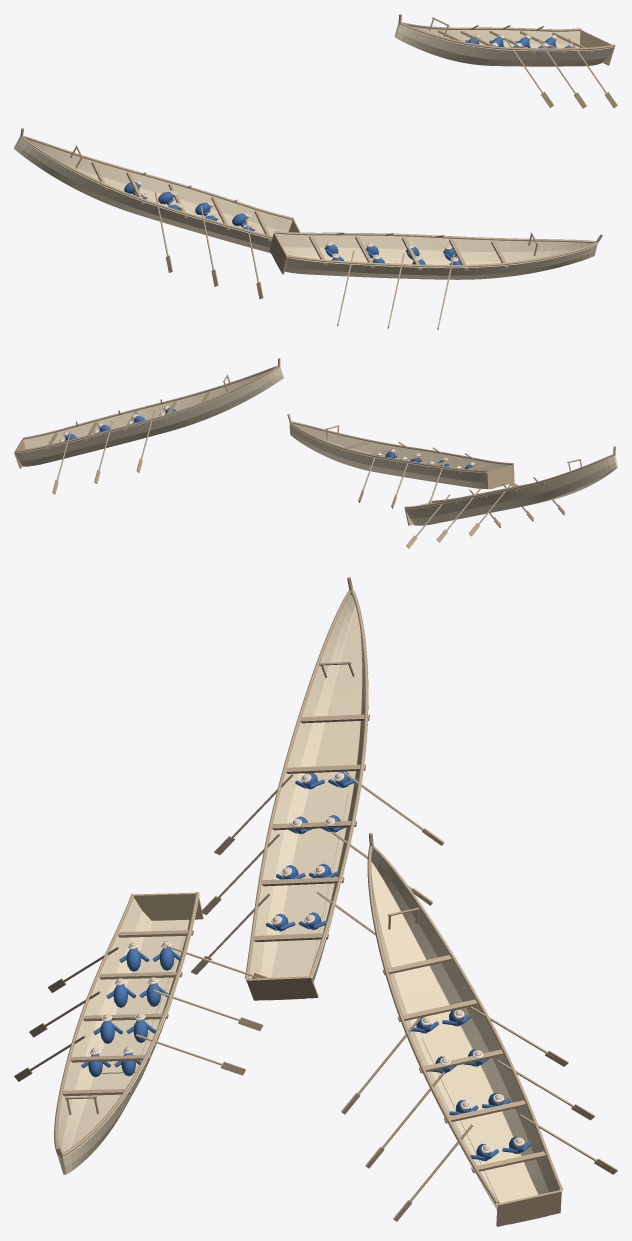
The model's file is great_wave_boats.glb.
3 renders of one model, top to bottom at view 1: azimuth 30°, elevation 25°; view 2: azimuth 150°, elevation 25°; view 3: azimuth 270°, elevation 25°, orthographic. The views are drawn at different scales.
Parts seen in each view (by area): view 1: Boat_Center, Boat_Left, Boat_Right; view 2: Boat_Right, Boat_Center, Boat_Left; view 3: Boat_Right, Boat_Left, Boat_Center.
Boxes of the visible parts, left/top/right/bottom form: Boat_Center: left=269, top=231, right=602, bottom=329; Boat_Left: left=14, top=128, right=300, bottom=299; Boat_Right: left=394, top=14, right=617, bottom=108; Boat_Right: left=14, top=358, right=283, bottom=494; Boat_Center: left=287, top=414, right=518, bottom=508; Boat_Left: left=404, top=446, right=617, bottom=548; Boat_Right: left=341, top=833, right=617, bottom=1226; Boat_Left: left=191, top=577, right=444, bottom=1000; Boat_Center: left=14, top=892, right=269, bottom=1174.
Size of the model in its own units: 26.98 by 8.27 by 14.73.
